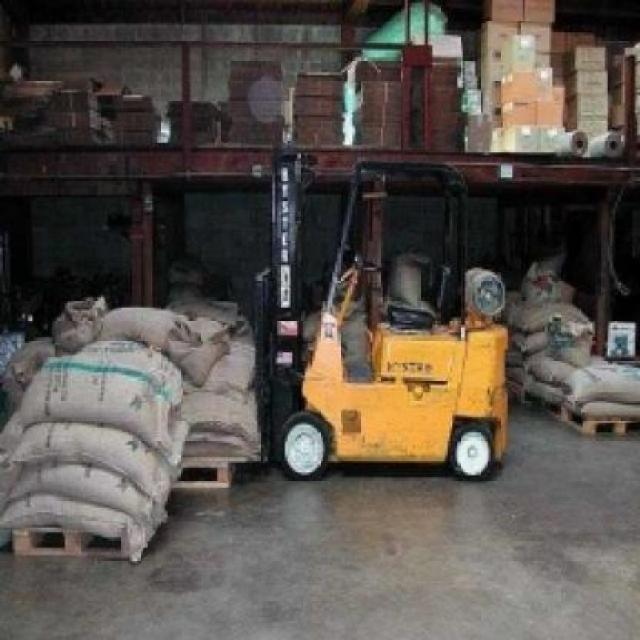forklift: (257, 148, 516, 484)
